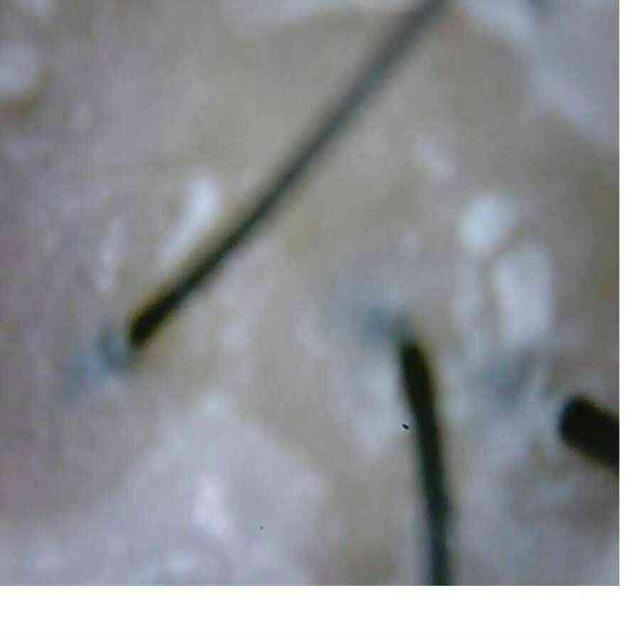d: (158, 166, 222, 277), (490, 244, 554, 348), (459, 194, 518, 255)
